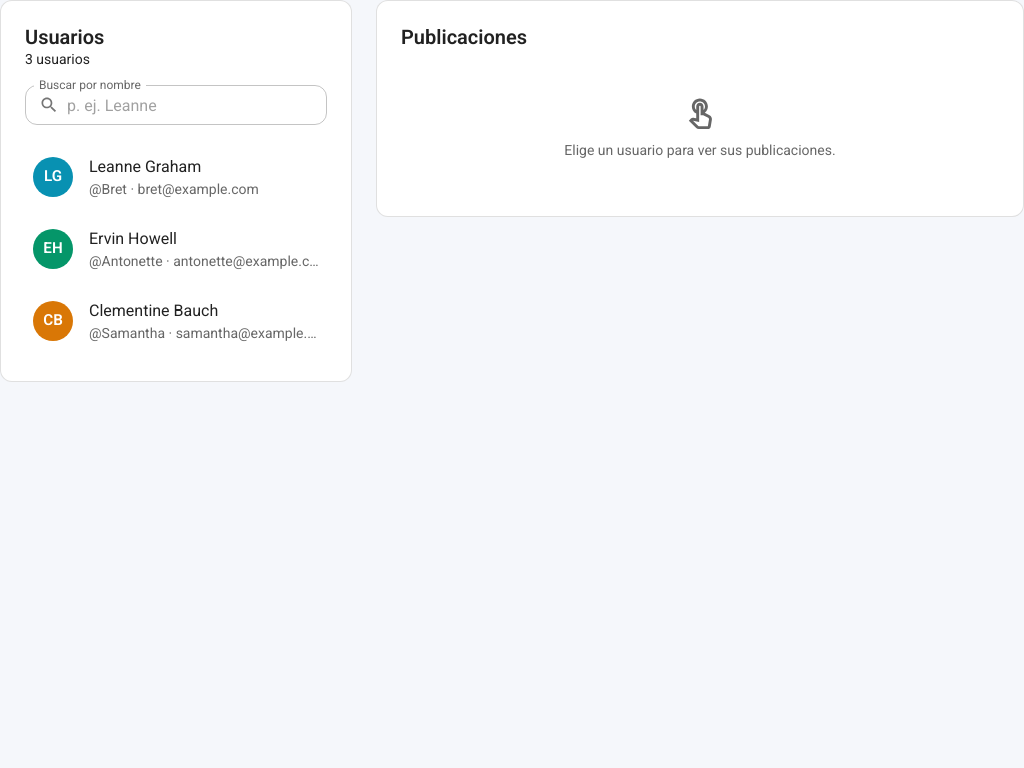
Test: UsersPostsPage in Spanish › shows the panels, the validation and the new post in Spanish
The image size is (1024, 768).
Check: the element "Usuarios" is shown, box [0, 0, 352, 382]
Check: the text "Elige un usuario para ver sus publicaciones." is shown, box [564, 140, 836, 160]
Click the button "LG Leanne Graham @Bret · bret@example.com" at (146, 177), box [33, 157, 259, 197]
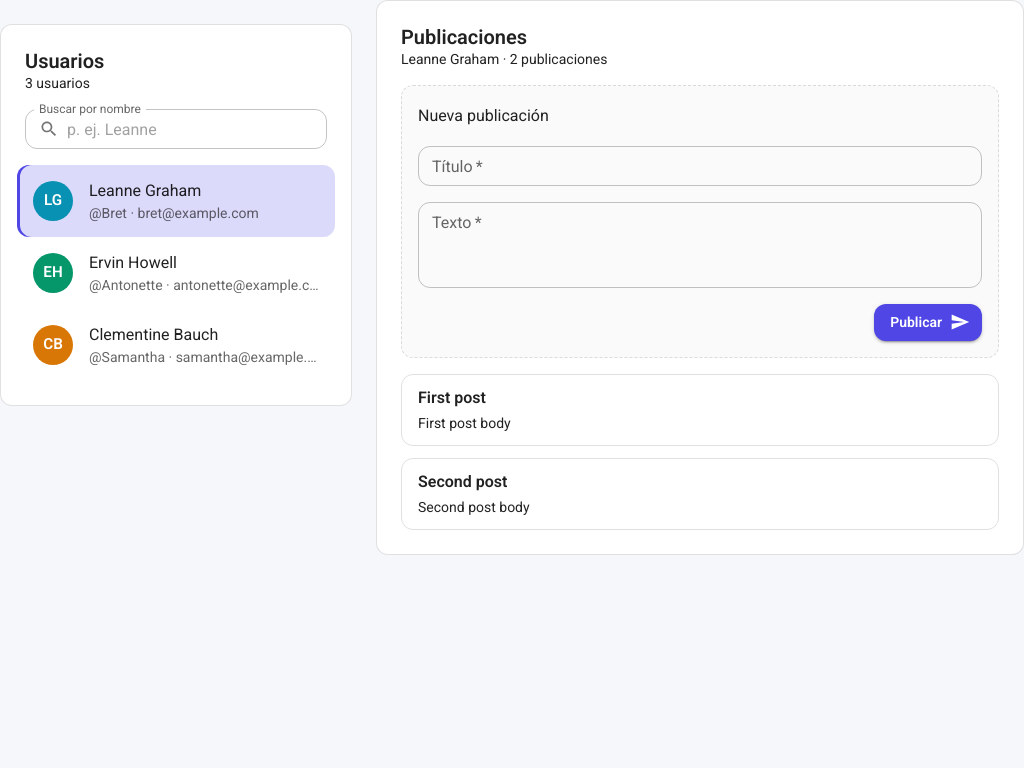
Check: the text "Leanne Graham · 2 publicaciones" is shown, box [401, 49, 607, 69]
Click the button "Publicar" at (928, 322), box [874, 304, 982, 340]
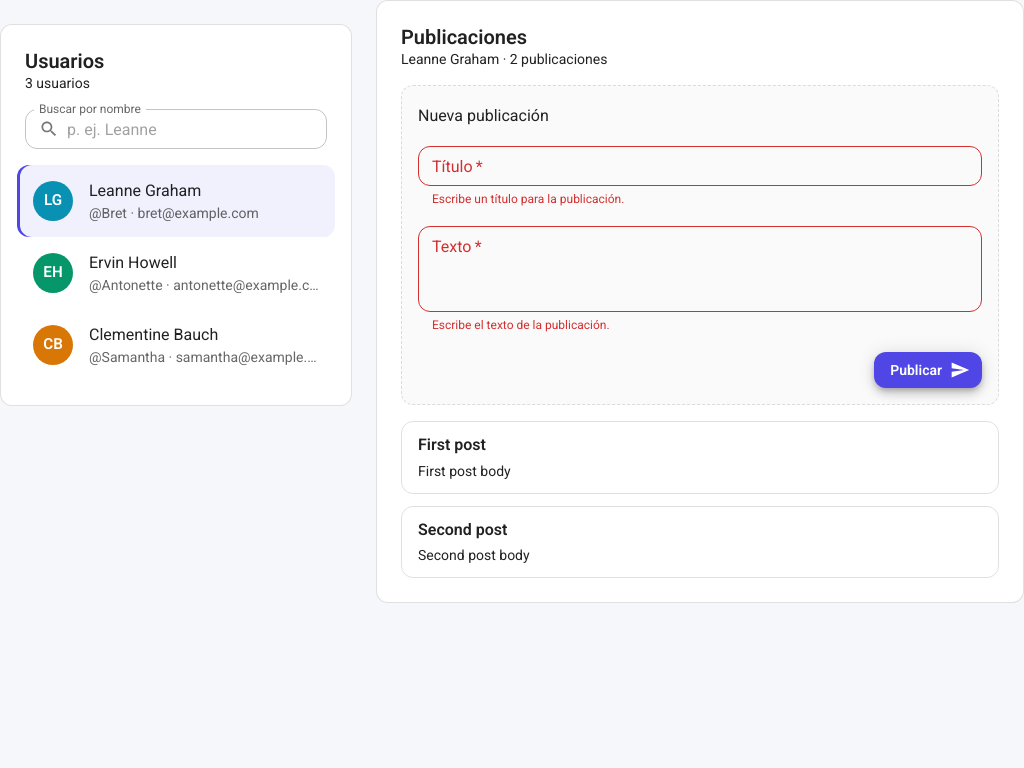
Check: the text "Escribe un título para la publicación." is shown, box [432, 192, 624, 206]
Check: the text "Escribe el texto de la publicación." is shown, box [432, 318, 610, 332]
Type "Hola" into the field with test id "new-post-title-input" at (700, 166), box [418, 146, 982, 186]
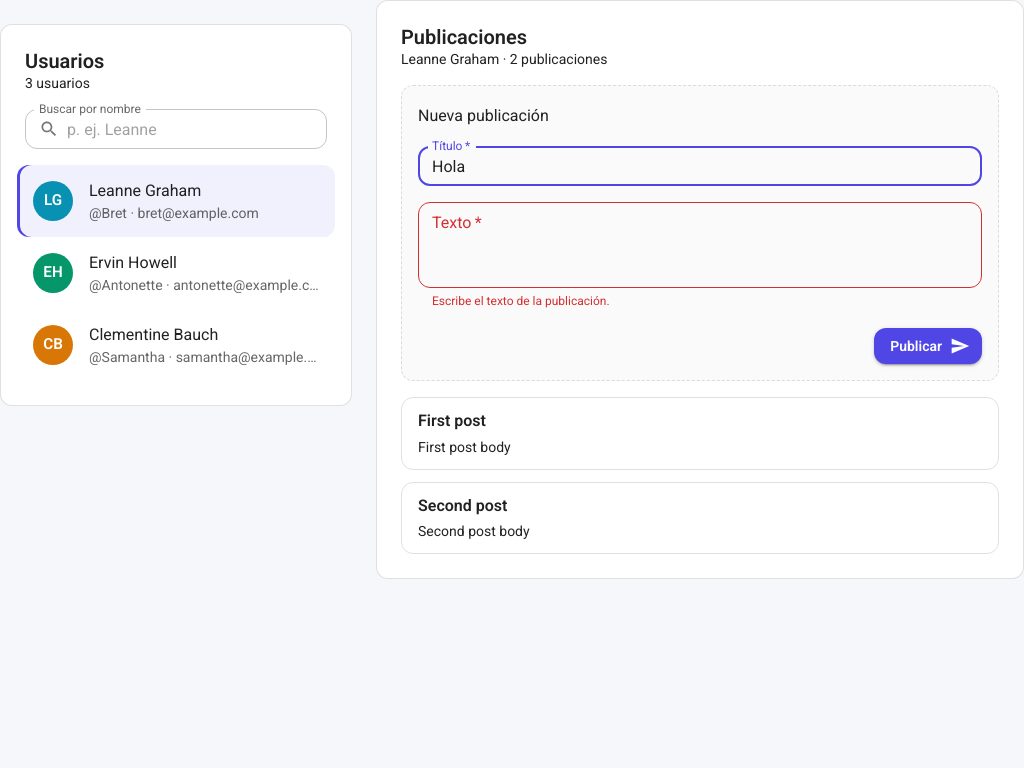
Type "Primera publicación" into the text box with test id "new-post-body-input" at (700, 245), box [432, 210, 968, 280]
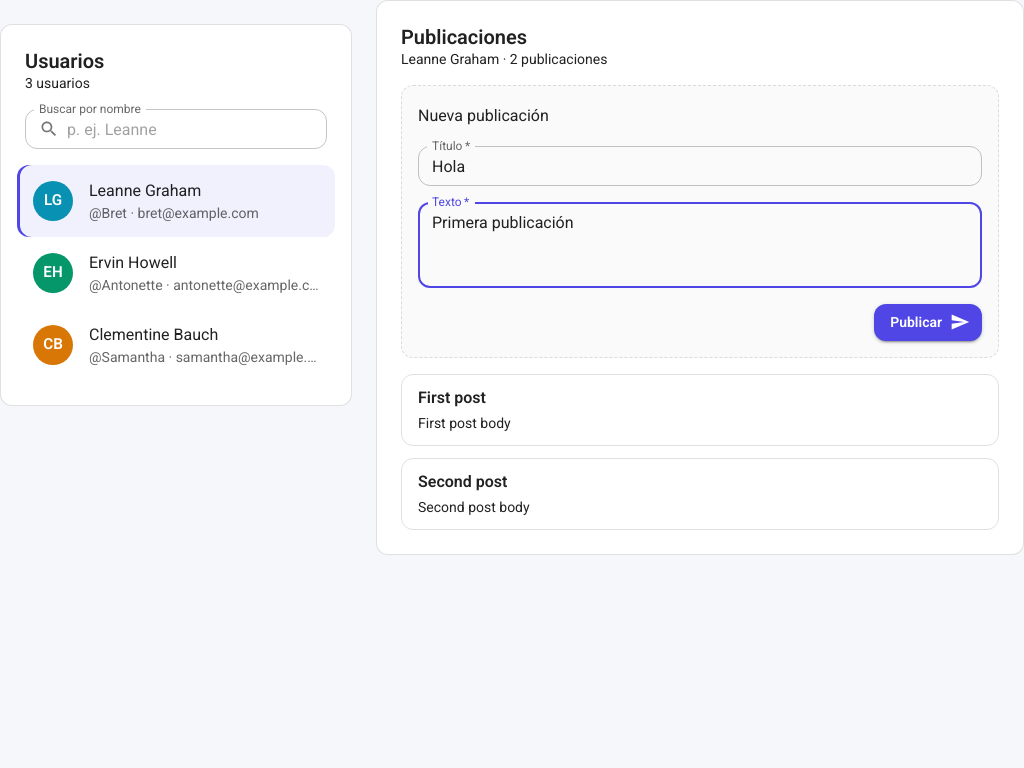
Click the button "Publicar" at (928, 322), box [874, 304, 982, 340]
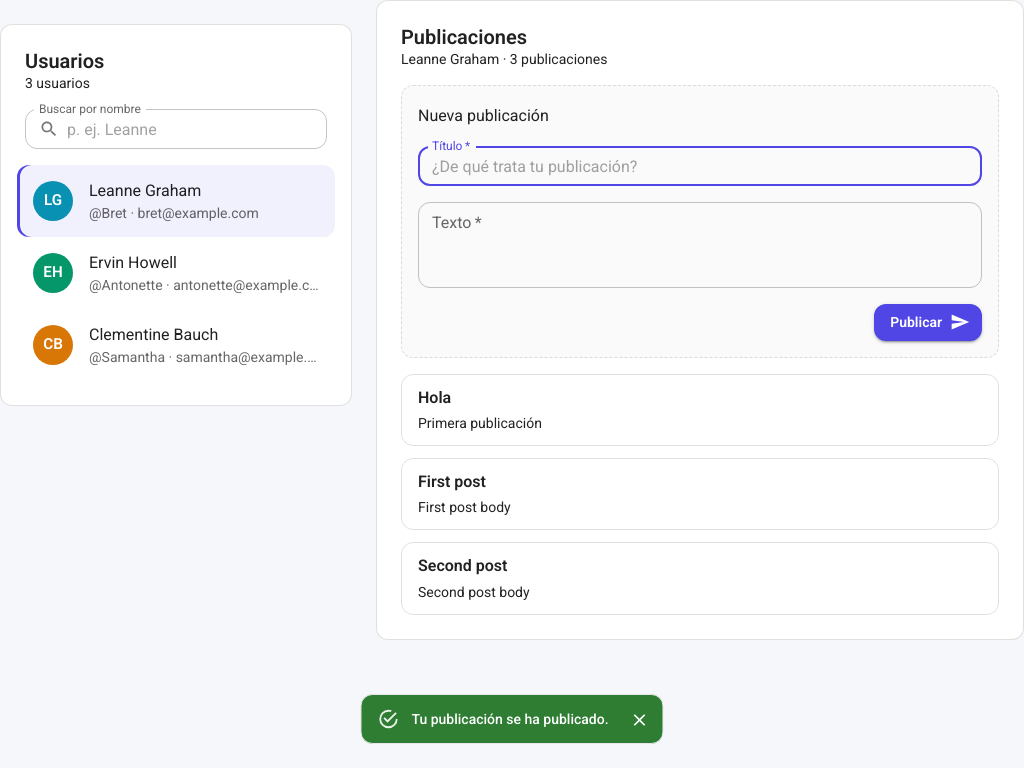
Check: the text "Tu publicación se ha publicado." is shown, box [412, 711, 609, 727]
Check: the heading "Hola" is shown, box [418, 388, 451, 406]
